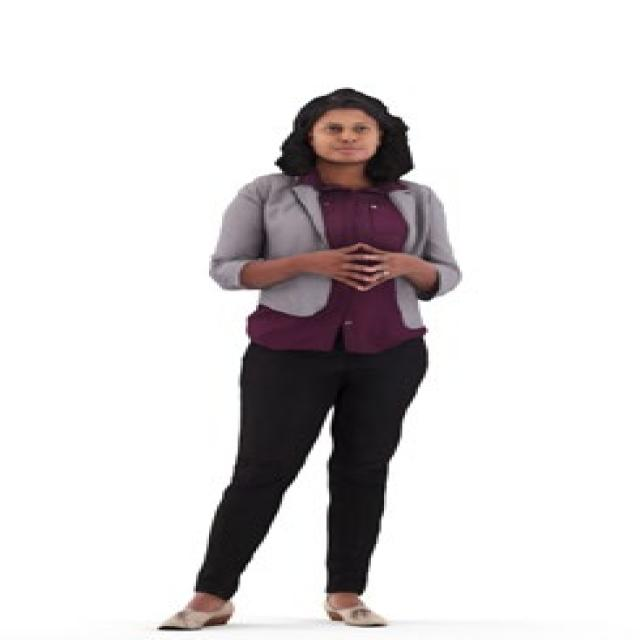standing: (147, 85, 472, 634)
